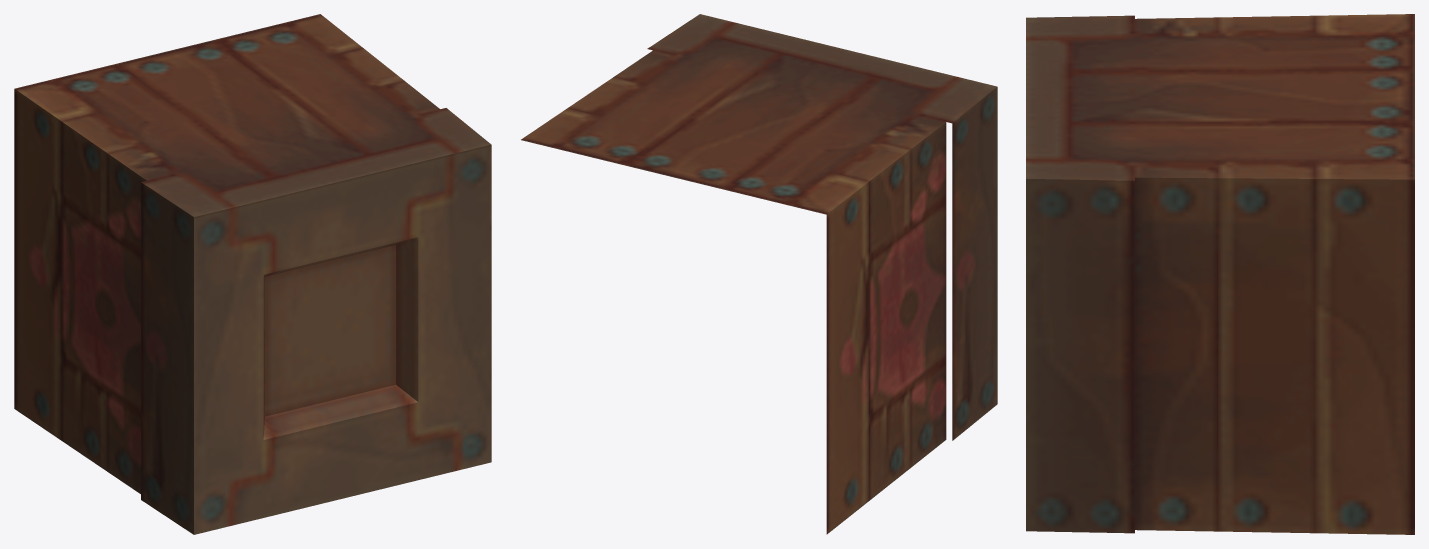
File: breakable.glb
3 renders of one model, left to right at view 1: azimuth 30°, elevation 25°; view 2: azimuth 150°, elevation 25°; view 3: azimuth 270°, elevation 25°, orthographic. The views are drawn at different scales.
Visible parts, largest first — view 1: castle_fire.breakable-Mesh[0]; view 2: castle_fire.breakable-Mesh[0]; view 3: castle_fire.breakable-Mesh[0].
Boxes of the visible parts, box(x1,y1,x2,y2) form: castle_fire.breakable-Mesh[0]: box(14, 14, 491, 534); castle_fire.breakable-Mesh[0]: box(521, 14, 997, 534); castle_fire.breakable-Mesh[0]: box(1026, 14, 1414, 534).
Bounding box in the file's own units: 1.01 × 1.01 × 1.
Materials: 1 (1 with a texture image).
